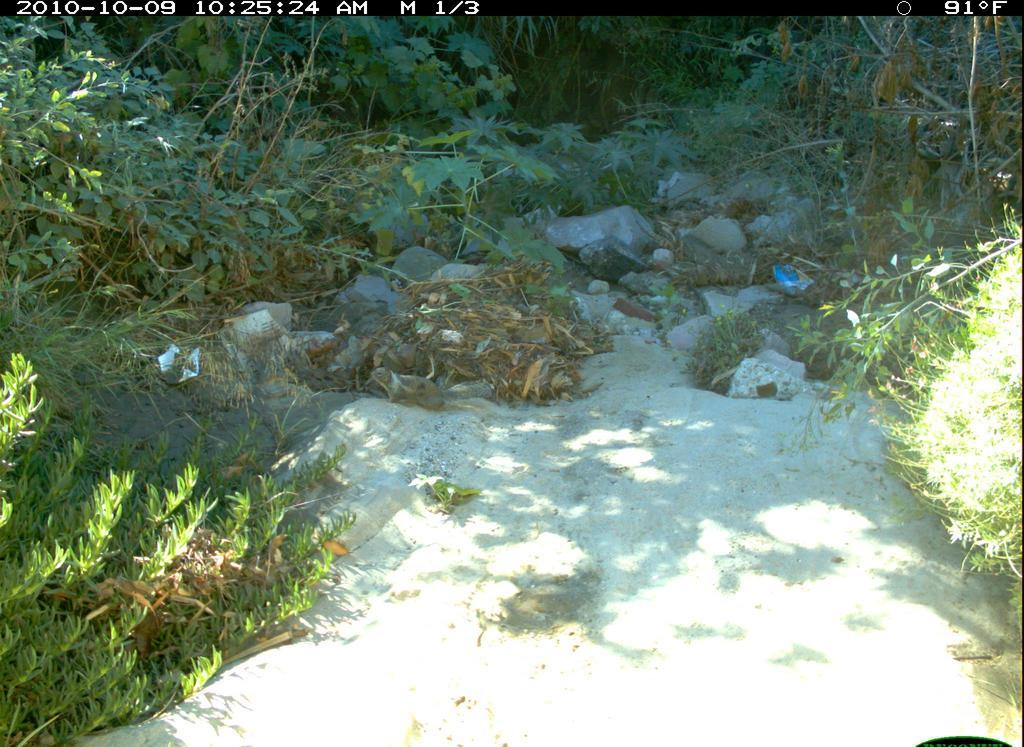squirrel: (363, 358, 474, 424)
